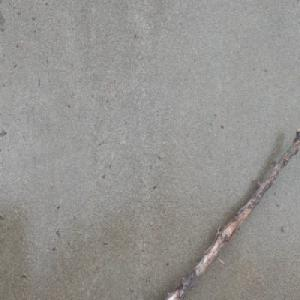Wood: (161, 129, 300, 299)
